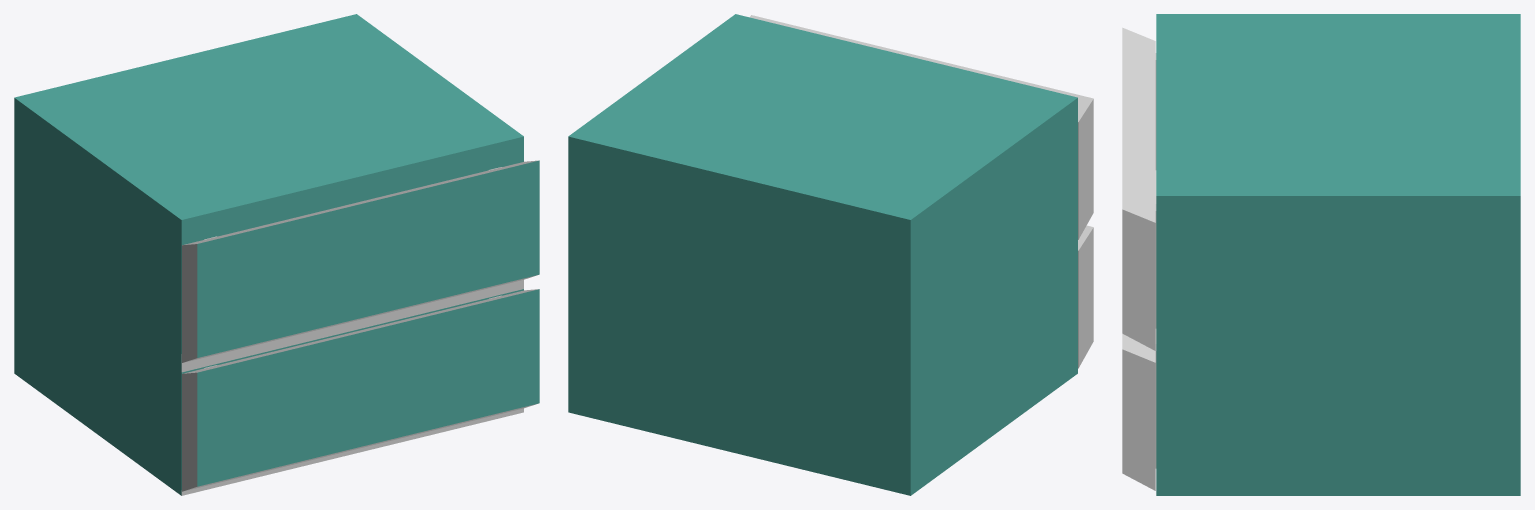
Rendered from commode2.fbx.
3 renders of one model, left to right at view 1: azimuth 30°, elevation 25°; view 2: azimuth 150°, elevation 25°; view 3: azimuth 270°, elevation 25°, orthographic. The views are drawn at different scales.
Visible parts, largest first — view 1: lv1_commode, lv1_drawerdown, lv1_drawerup; view 2: lv1_commode, lv1_drawerup, lv1_drawerdown; view 3: lv1_commode, lv1_drawerup, lv1_drawerdown.
Part boxes in pixels (<box>): lv1_commode: <box>14,14,523,495</box>; lv1_drawerdown: <box>182,289,539,491</box>; lv1_drawerup: <box>182,160,539,362</box>; lv1_commode: <box>568,14,1077,495</box>; lv1_drawerup: <box>750,15,1093,239</box>; lv1_drawerdown: <box>1078,225,1093,368</box>; lv1_commode: <box>1156,14,1520,495</box>; lv1_drawerup: <box>1122,27,1156,350</box>; lv1_drawerdown: <box>1122,329,1156,490</box>.
Size of the model in its own units: 61.9 by 47.64 by 57.3.
